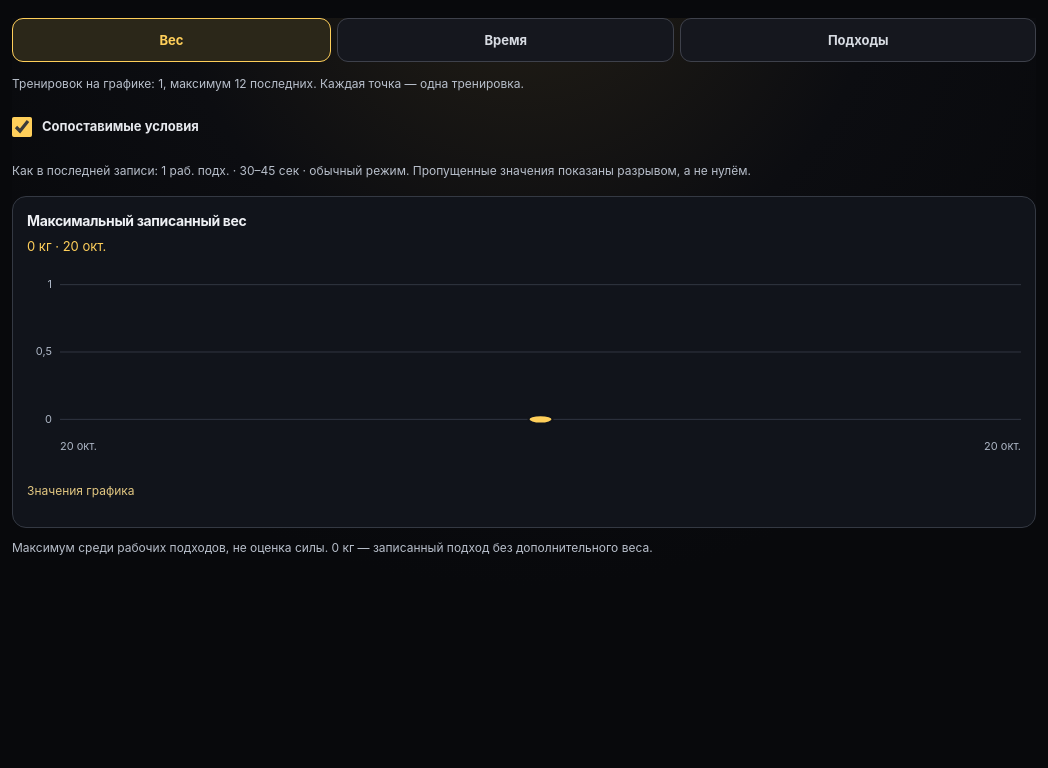
Test: exercise chart facts › does not mix timed seconds with repetitions even when showing all conditions
This screenshot has width=1048, height=768.
What coordinates should you click on to do the following:
click the button "Время"
I would click on:
 (506, 40)
Its box is [337,18,674,62].
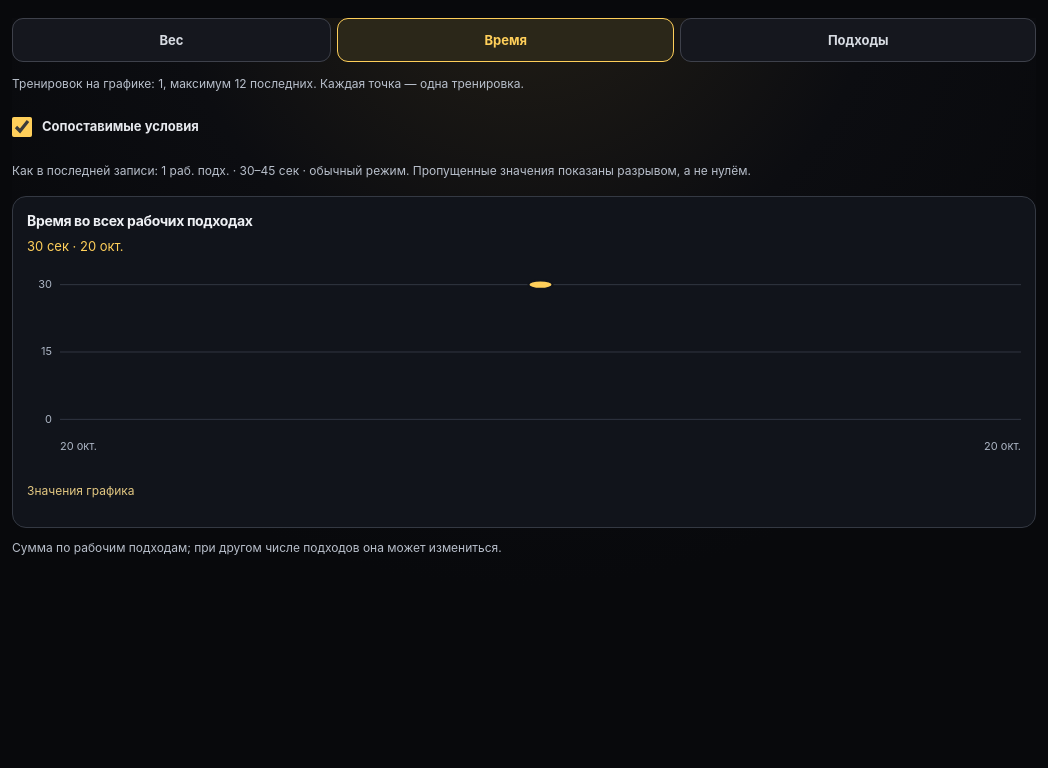
Expected: the picture named "Время во всех рабочих подходах, сек" is shown, [60,272,1021,432]
